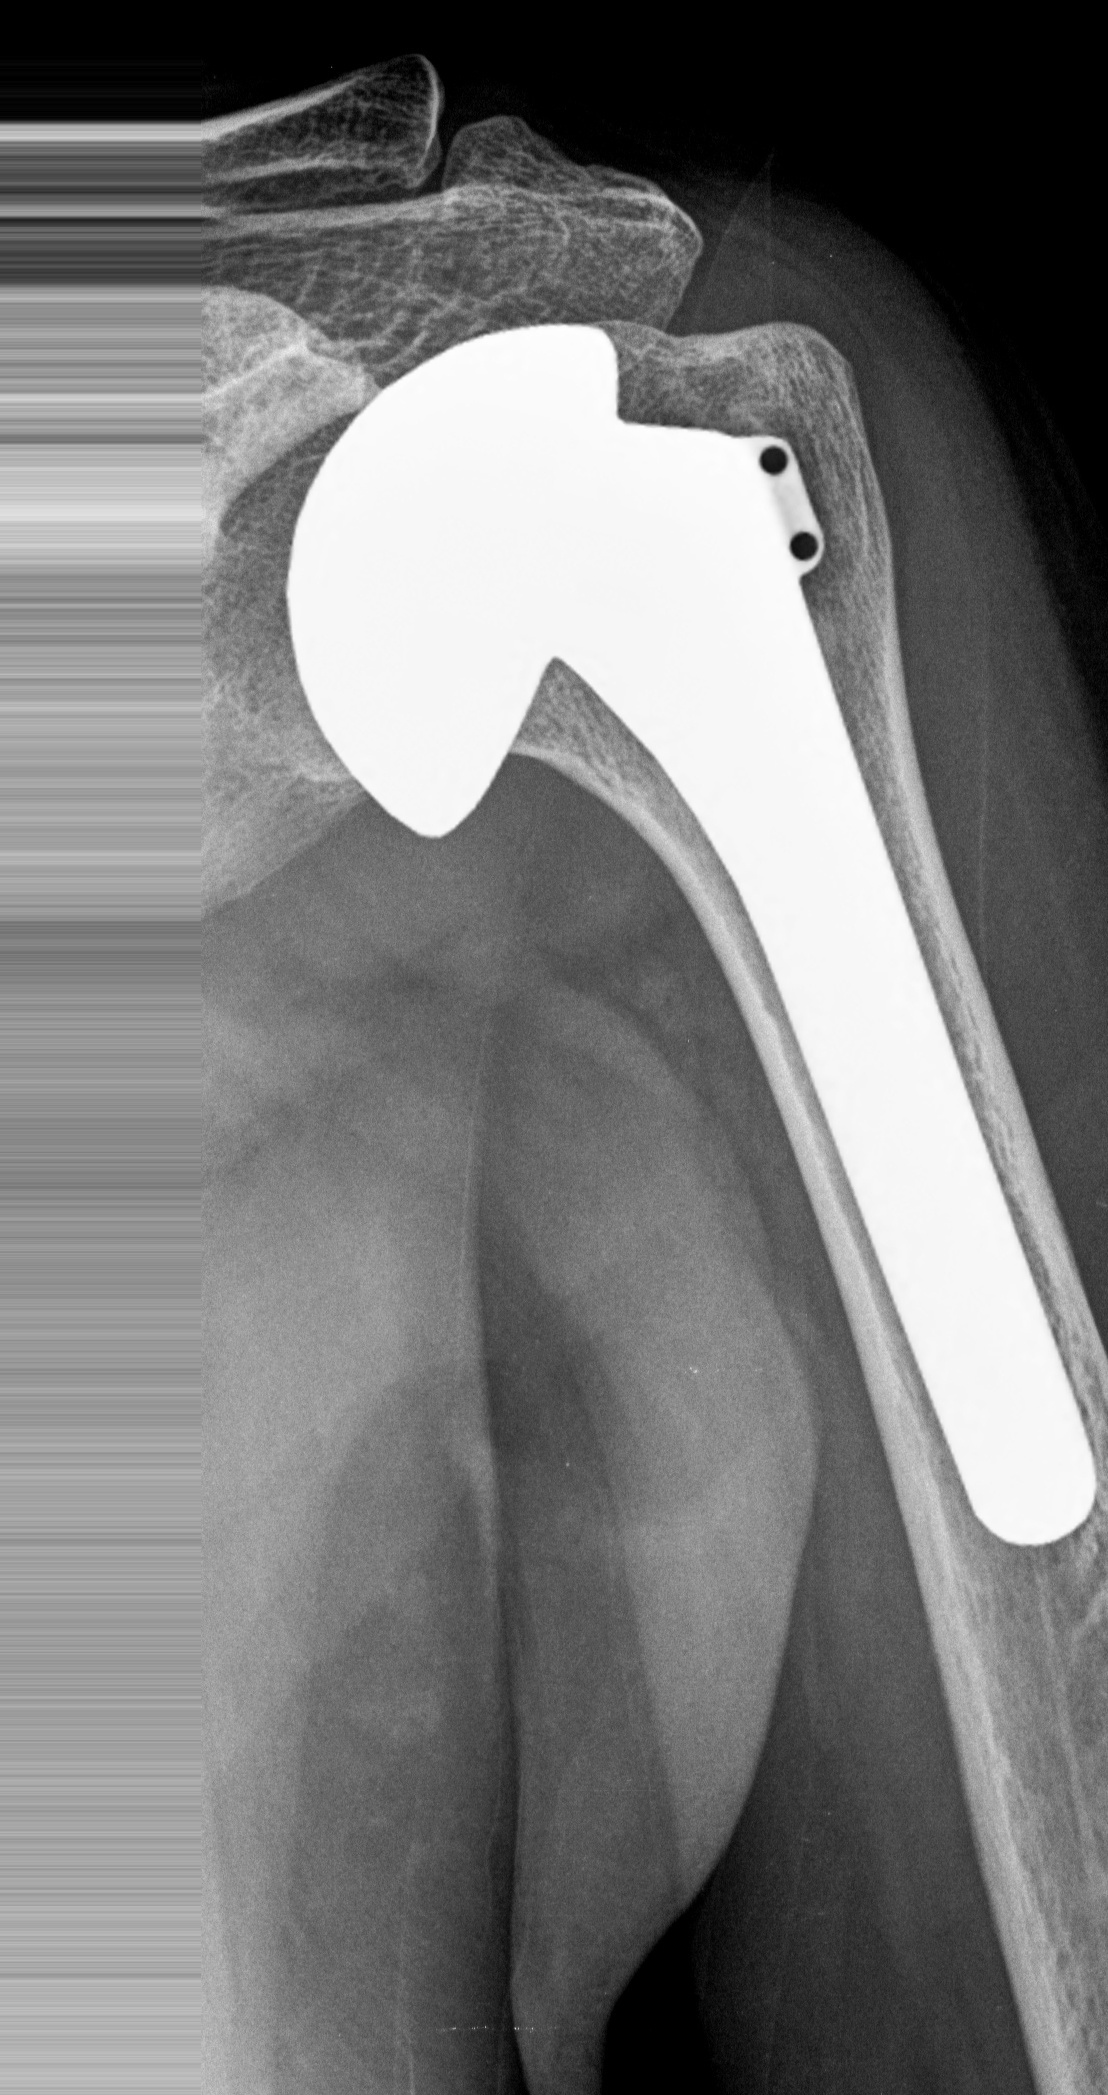Shoulder - AequalisPressfit - Tornier: (273, 288, 845, 852)
